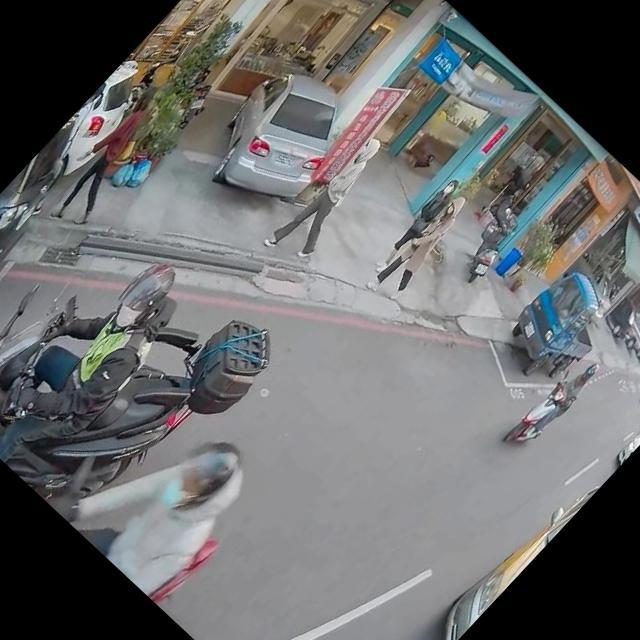person: (0, 224, 210, 488), (58, 388, 273, 604), (35, 74, 194, 237), (255, 120, 408, 276), (5, 79, 140, 219), (366, 184, 480, 302), (368, 174, 474, 286), (508, 349, 606, 451)
